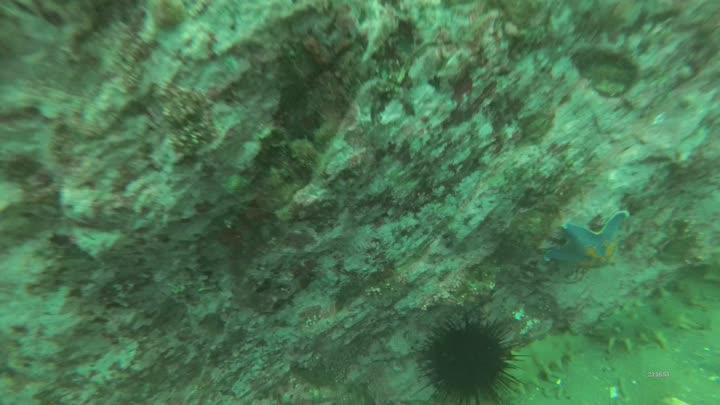urchin: (403, 304, 527, 405)
